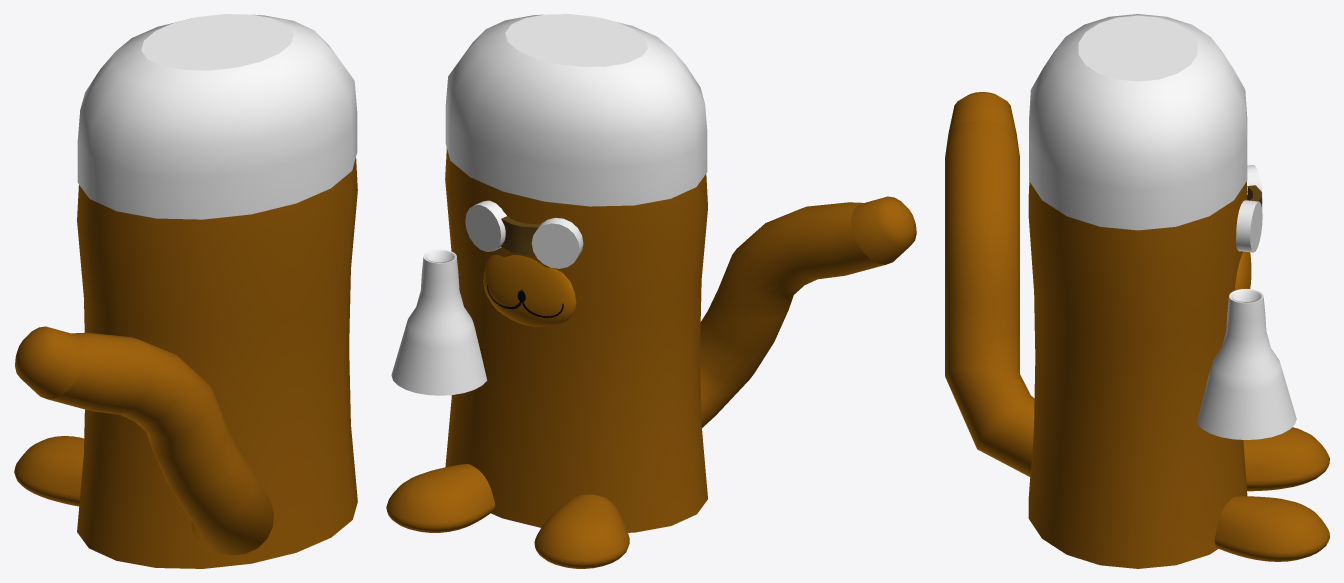
File: Scientist.FBX
3 views of the same model, side by side, from view 1: azimuth 30°, elevation 25°; view 2: azimuth 150°, elevation 25°; view 3: azimuth 270°, elevation 25° (orthographic). The views are drawn at different scales.
Visible parts, largest first — view 1: Cylinder001, Cylinder005, Cylinder002, Sphere002; view 2: Cylinder001, Cylinder005, Cylinder002, Cone001, Sphere001, Sphere002, Sphere006, Cylinder004, Cylinder003, Box001; view 3: Cylinder001, Cylinder005, Cylinder002, Cone001, Sphere001, Sphere002, Cylinder003, Sphere006.
Part boxes in pixels (bbox=[...]): Cylinder001: bbox=[77, 158, 357, 568]; Cylinder005: bbox=[77, 14, 357, 219]; Cylinder002: bbox=[15, 326, 273, 555]; Sphere002: bbox=[14, 436, 84, 506]; Cylinder001: bbox=[445, 148, 707, 532]; Cylinder005: bbox=[445, 14, 707, 206]; Cylinder002: bbox=[700, 196, 916, 427]; Cone001: bbox=[391, 249, 487, 395]; Sphere001: bbox=[386, 464, 495, 532]; Sphere002: bbox=[534, 494, 629, 568]; Sphere006: bbox=[483, 254, 576, 326]; Cylinder004: bbox=[531, 217, 583, 268]; Cylinder003: bbox=[465, 200, 506, 251]; Box001: bbox=[501, 216, 540, 255]; Cylinder001: bbox=[1028, 181, 1247, 568]; Cylinder005: bbox=[1029, 14, 1247, 230]; Cylinder002: bbox=[945, 92, 1034, 476]; Cone001: bbox=[1197, 289, 1296, 439]; Sphere001: bbox=[1214, 496, 1329, 561]; Sphere002: bbox=[1243, 427, 1329, 491]; Cylinder003: bbox=[1236, 200, 1262, 252]; Sphere006: bbox=[1234, 251, 1251, 290].
Bounding box in the file's own units: 57.57 × 64.58 × 48.04.
Materials: 13 (13 with a texture image).
